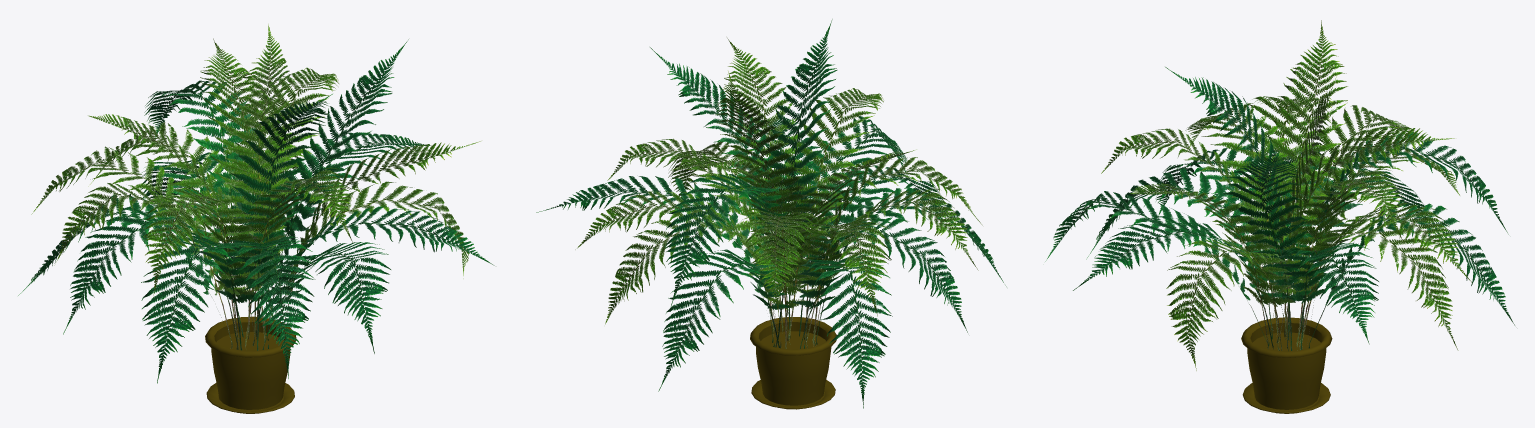
Rendered from ear1.glb.
The picture shows the model from 3 angles, left to right: view 1: azimuth 30°, elevation 25°; view 2: azimuth 150°, elevation 25°; view 3: azimuth 270°, elevation 25°; orthographic projection. The views are drawn at different scales.
Parts seen in each view (by area): view 1: Leafs, pot; view 2: Leafs, pot; view 3: Leafs, pot.
Boxes of the visible parts, box(x1,y1,x2,y2) form: Leafs: box(18, 24, 494, 383); pot: box(205, 316, 296, 413); Leafs: box(536, 19, 1006, 408); pot: box(750, 317, 836, 409); Leafs: box(1045, 20, 1514, 370); pot: box(1241, 317, 1332, 413).
Size of the model in its own units: 1.95 by 1.54 by 1.9.
Materials: 2 (1 with a texture image).
